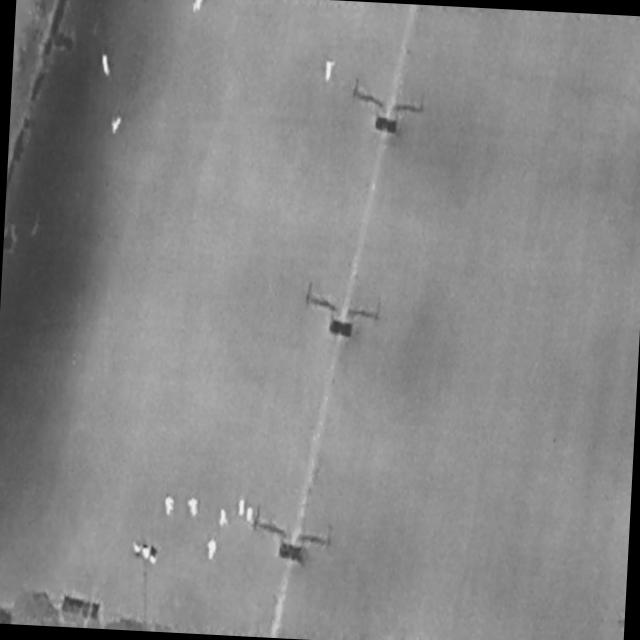person: (188, 497, 201, 519), (325, 61, 337, 84), (207, 538, 219, 561), (101, 54, 111, 77), (165, 496, 176, 516), (219, 509, 230, 529), (113, 119, 123, 137), (239, 497, 247, 517), (193, 1, 204, 14), (247, 508, 255, 524)
